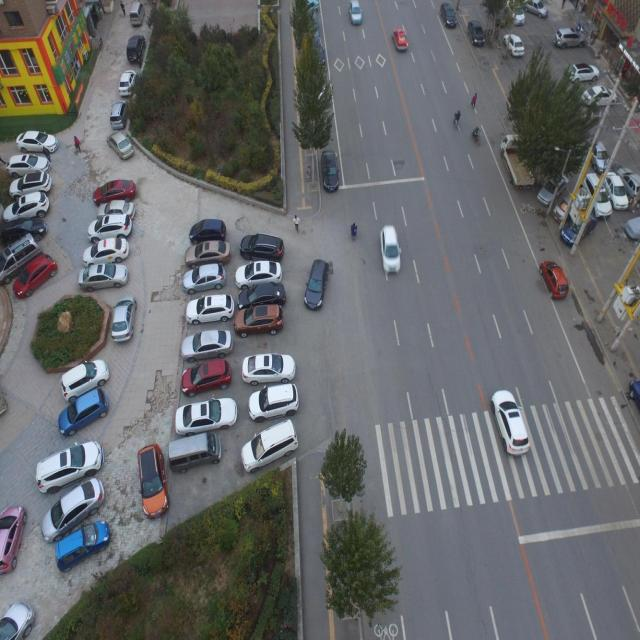p3rson: (42, 144, 51, 162), (452, 110, 460, 128), (73, 135, 81, 152), (0, 149, 7, 167), (293, 212, 299, 232), (119, 1, 126, 17), (471, 91, 477, 109), (561, 0, 567, 9), (135, 0, 140, 3)
